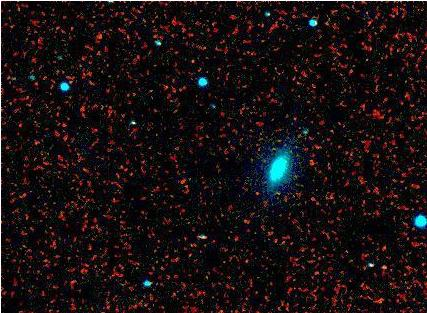star: (368, 254, 398, 284)
